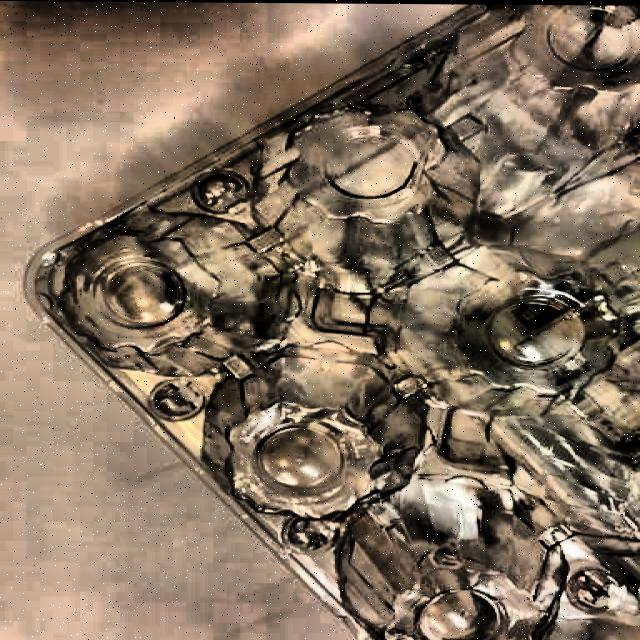plastic: (26, 0, 640, 640)
